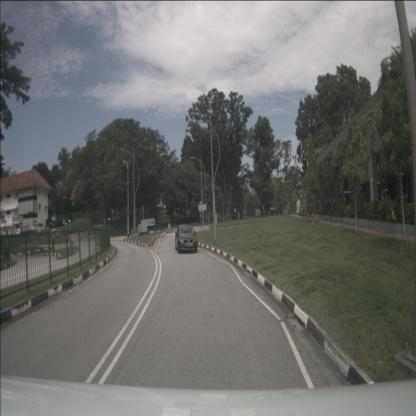vehicle-car: (175, 224, 198, 254), (30, 222, 44, 233)
